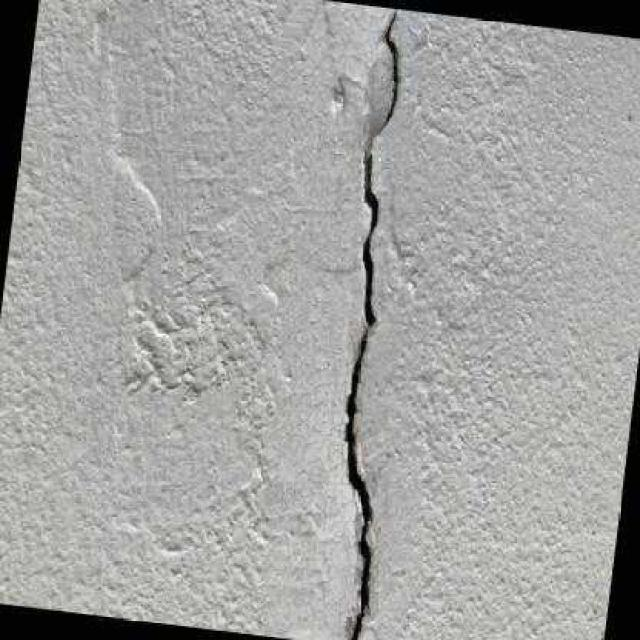D00: (360, 7, 396, 326), (342, 330, 370, 640)
